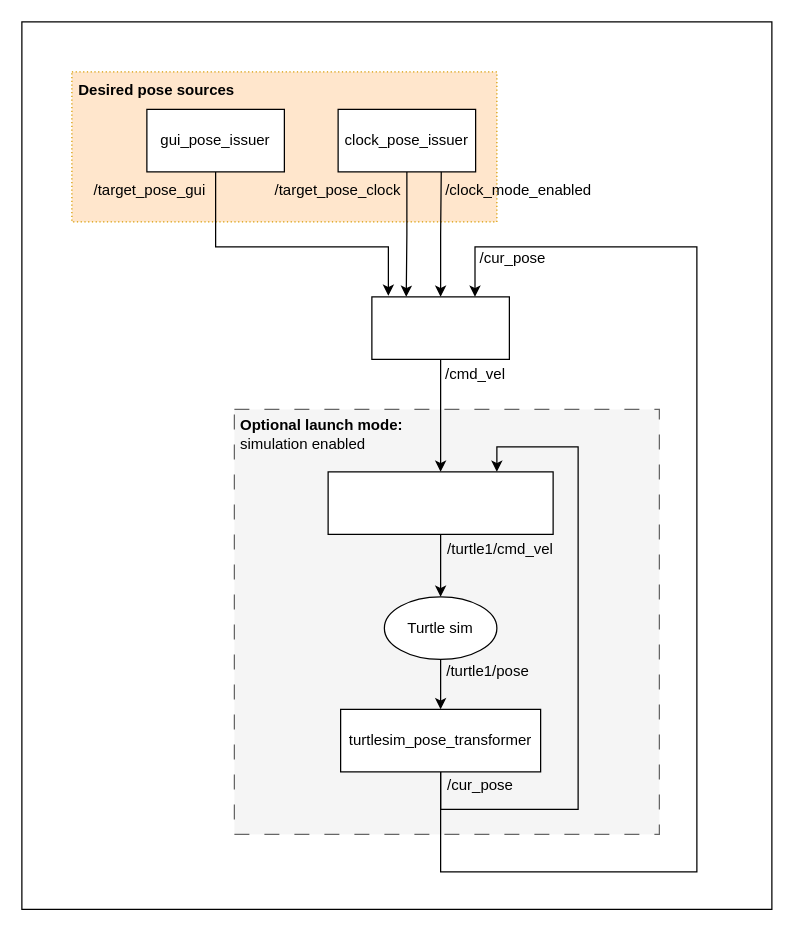
Image size: 794x931. Some labels were removed from this diagram. The box of each missing label's shape, as (x1, y1, x2, y2) in pixels:
motion_controller: (371, 296, 509, 359)
turtlesim_velocity_transformer: (327, 471, 553, 534)
